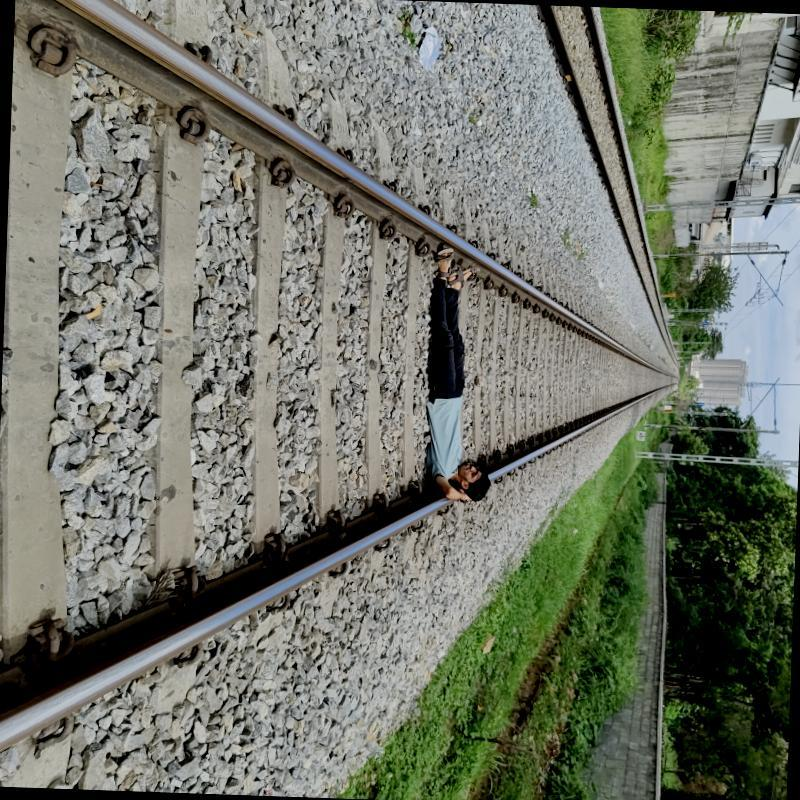sleeping: (421, 244, 498, 518)
